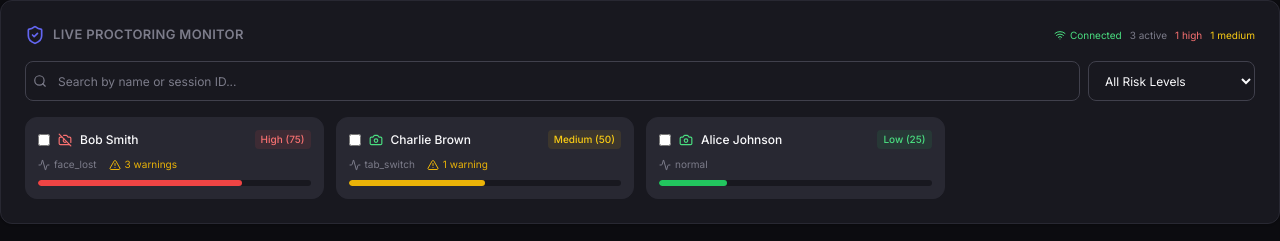
Test: MonitoringGrid › filters by risk level
Select "High Risk (70+)" in the dropdown showing "All Risk Levels" at (1172, 81), box [1088,61,1255,101]
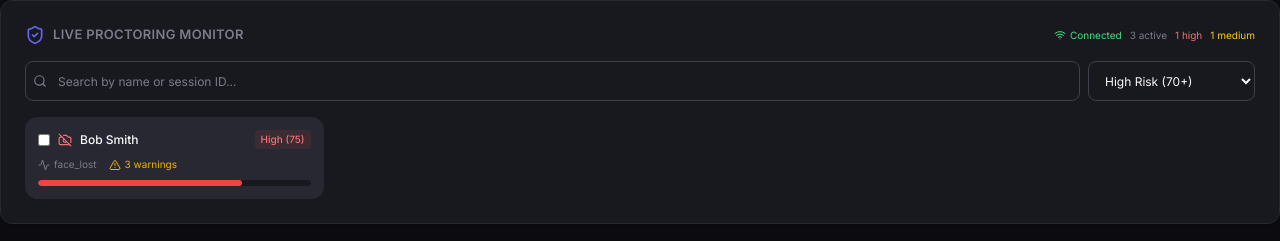
expect the text "Bob Smith" is shown: met, box [80,130,138,148]
expect the text "Alice Johnson" is gone: met
expect the text "Charlie Brown" is gone: met
